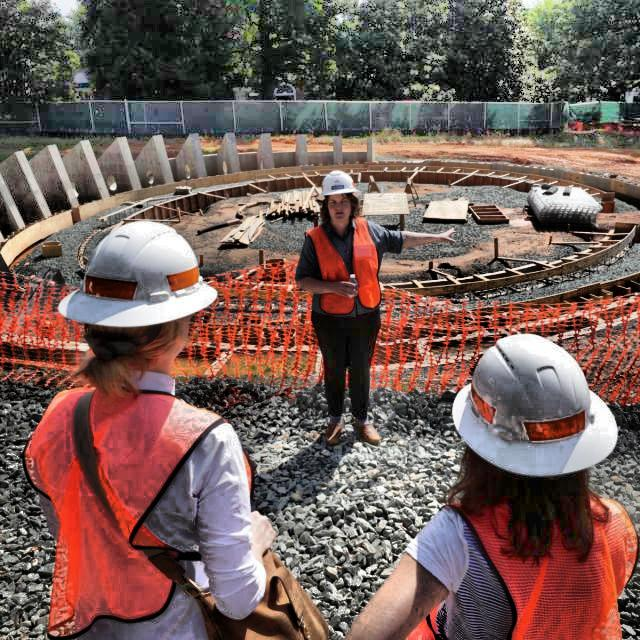person: (38, 210, 286, 640), (412, 328, 631, 630), (287, 162, 397, 444)
